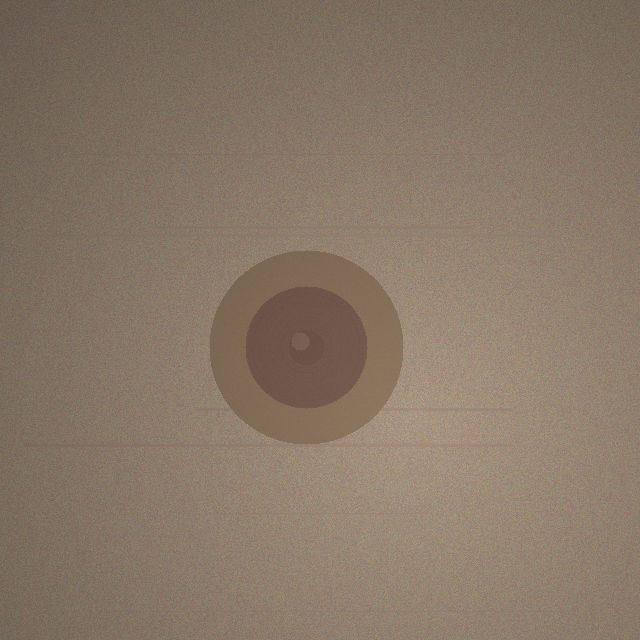good: (209, 250, 403, 444)
